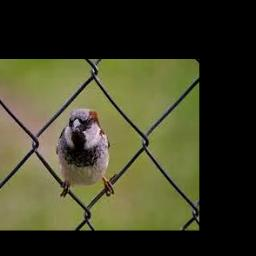Sparrow: (57, 108, 111, 188)
